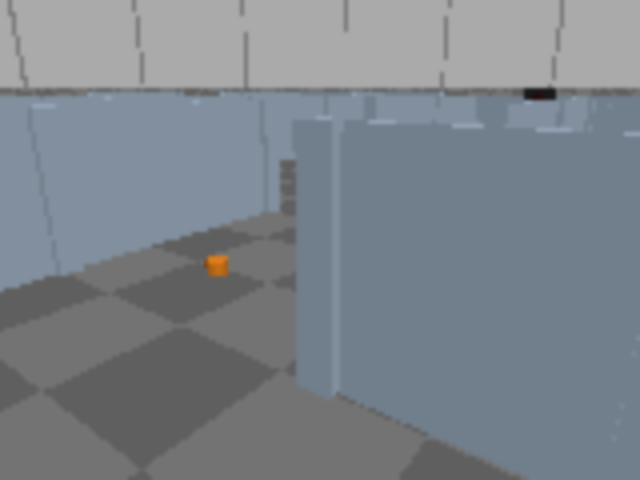puck: (208, 256, 226, 276)
